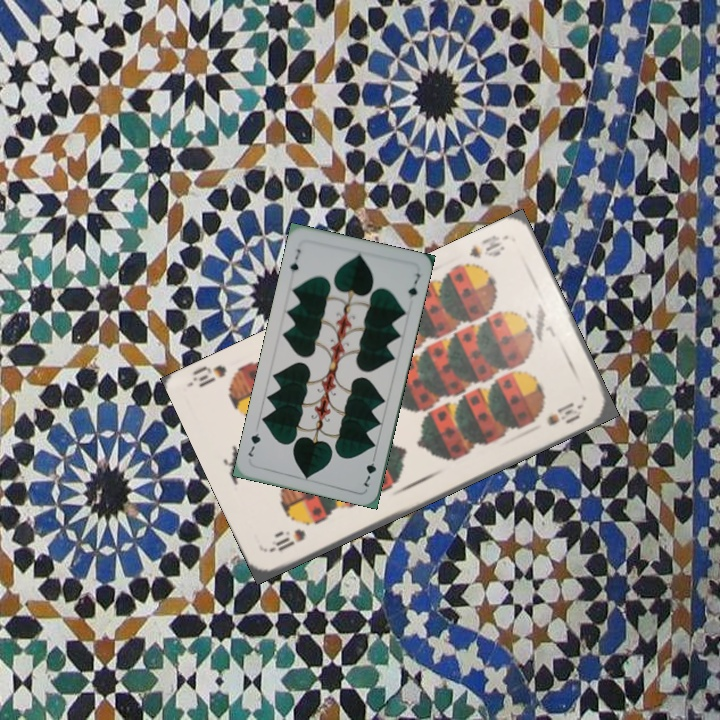G7: (360, 450, 379, 490), (286, 245, 303, 279)
S10: (465, 230, 508, 261), (267, 525, 309, 555)
